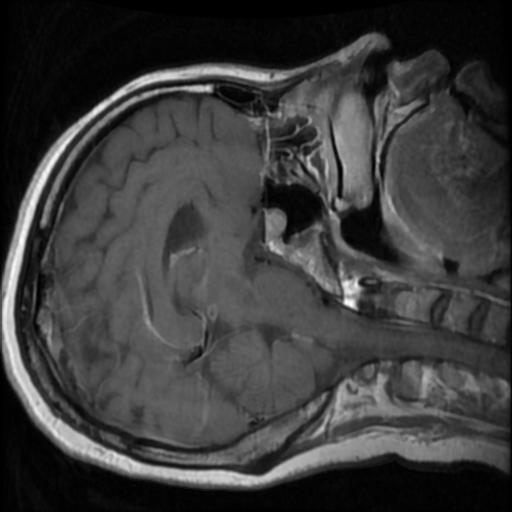pituitary tumour: (261, 208, 288, 244)
